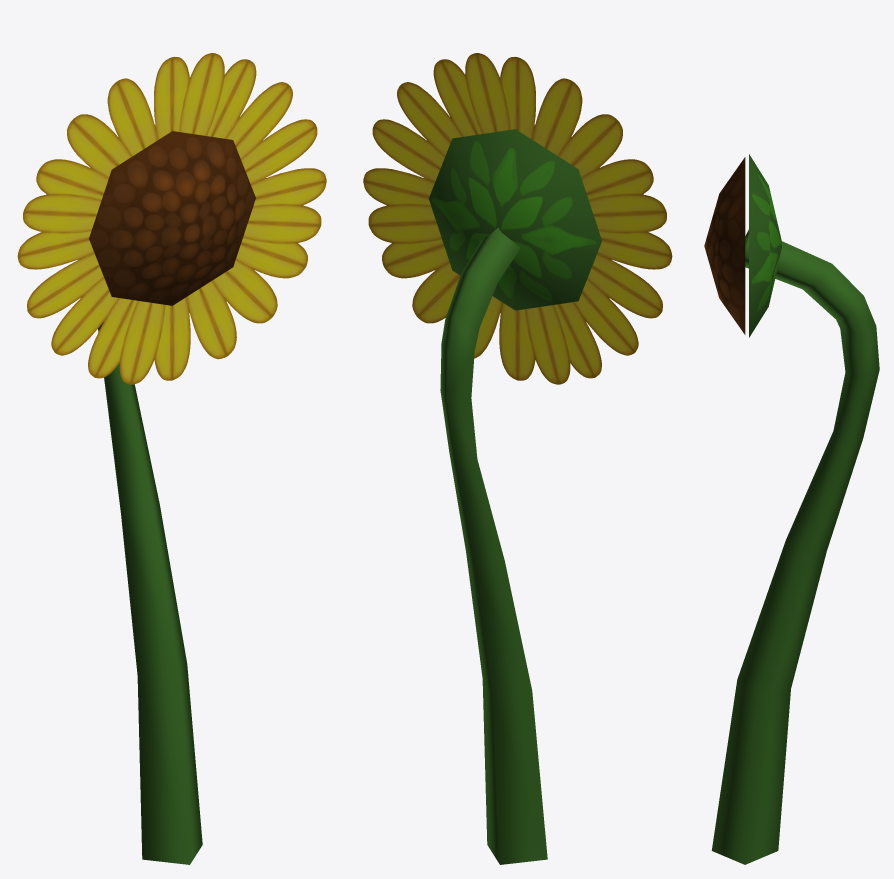
Rendered from Sunflower.fbx.
3 renders of one model, left to right at view 1: azimuth 30°, elevation 25°; view 2: azimuth 150°, elevation 25°; view 3: azimuth 270°, elevation 25°, orthographic. The views are drawn at different scales.
Parts seen in each view (by area): view 1: SunFlower; view 2: SunFlower; view 3: SunFlower.
Part boxes in pixels (x1,y1,x2,y2): SunFlower: (17,53,326,864); SunFlower: (363,53,672,864); SunFlower: (704,154,879,864).
Bounding box in the file's own units: 0.8718 × 0.4379 × 2.1.
